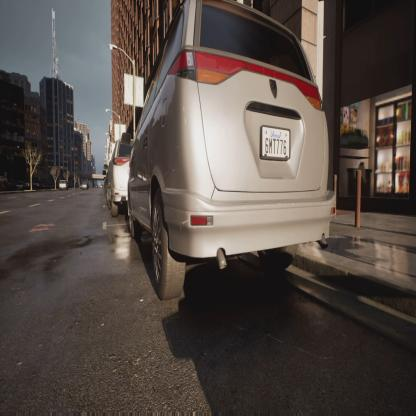License-Plate: (256, 120, 295, 167)
